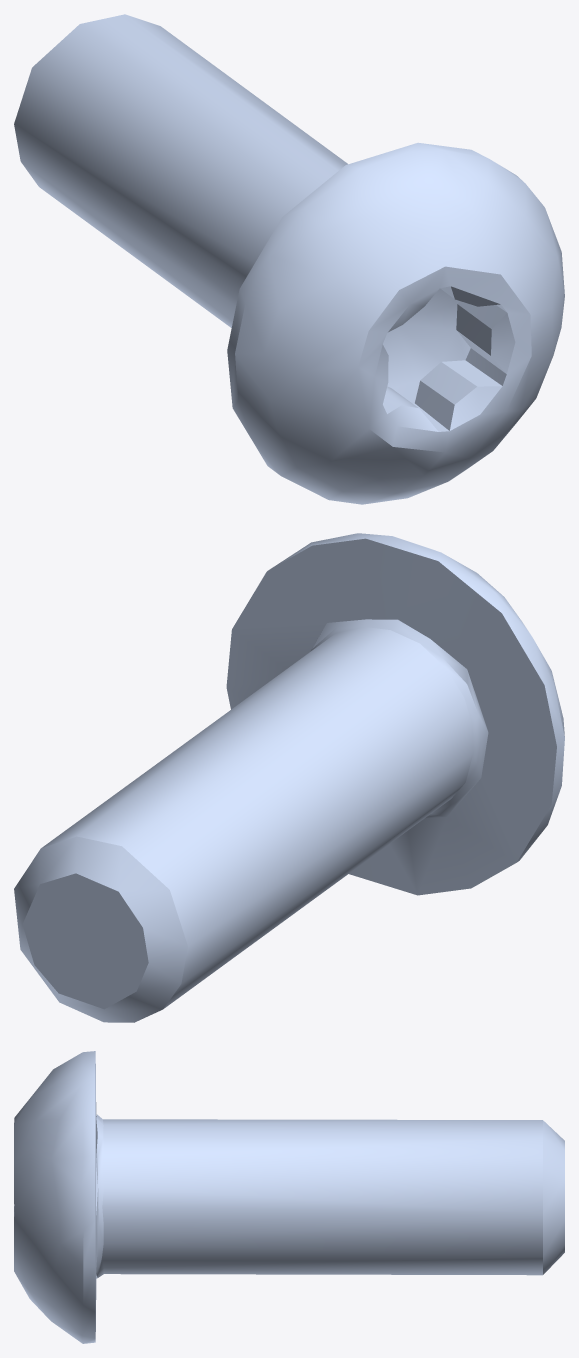
Rendered from _8-32_x_1_2_Star_Drive_Screw__276-4992_.glb.
The picture shows the model from 3 angles, top to bottom: view 1: azimuth 30°, elevation 25°; view 2: azimuth 150°, elevation 25°; view 3: azimuth 270°, elevation 25°; orthographic projection. The views are drawn at different scales.
Visible parts, largest first — view 1: #8-32 x 1_2 Star Drive Screw (276-4992); view 2: #8-32 x 1_2 Star Drive Screw (276-4992); view 3: #8-32 x 1_2 Star Drive Screw (276-4992).
Part boxes in pixels (x1,y1,x2,y2): #8-32 x 1_2 Star Drive Screw (276-4992): (14,14,564,504); #8-32 x 1_2 Star Drive Screw (276-4992): (14,533,564,1022); #8-32 x 1_2 Star Drive Screw (276-4992): (14,1051,564,1343).
Bounding box in the file's own units: 0.3122 × 0.3122 × 0.5871.
